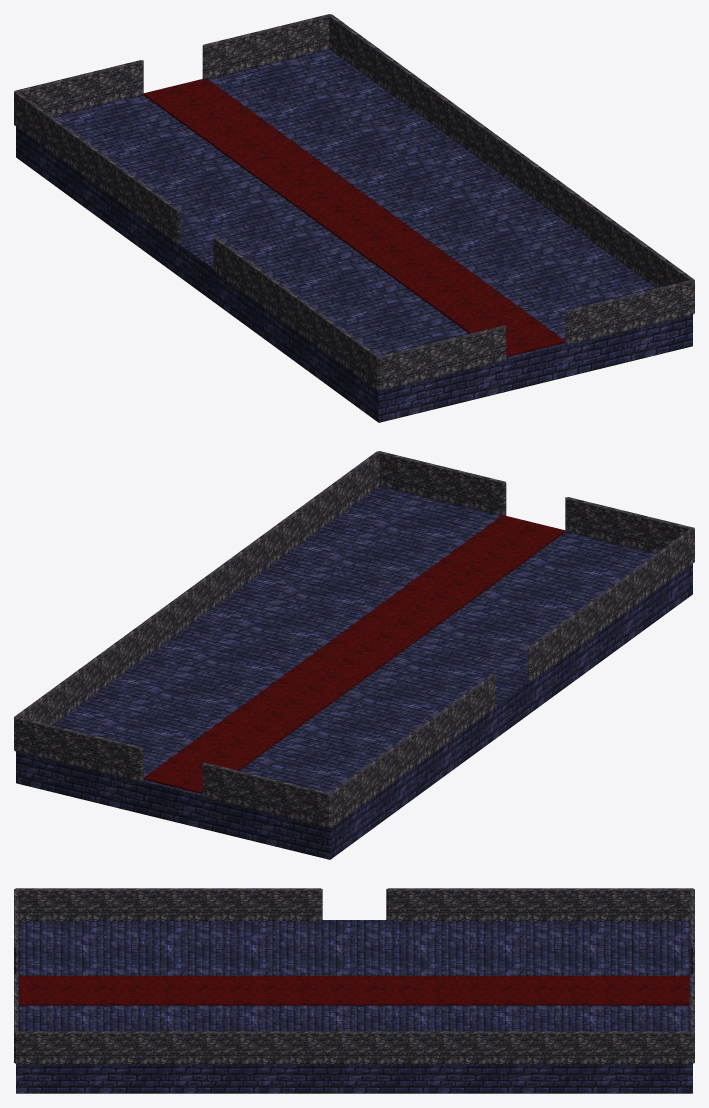
Rendered from room-3door2.glb.
The picture shows the model from 3 angles, top to bottom: view 1: azimuth 30°, elevation 25°; view 2: azimuth 150°, elevation 25°; view 3: azimuth 270°, elevation 25°; orthographic projection. The views are drawn at different scales.
Visible parts, largest first — view 1: floor (×4), wall (×51), porch_floorCenter (×2); view 2: floor (×13), wall (×51), porch_floorCenter (×2); view 3: floor (×34), wall (×38), porch_floorCenter (×2).
Part boxes in pixels (x1,y1,x2,y2): floor (×4): (34,68,692,422); wall (×51): (14,14,694,390); porch_floorCenter (×2): (143,78,565,356); floor (×13): (16,493,692,859); wall (×51): (15,451,694,827); porch_floorCenter (×2): (143,515,565,793); floor (×34): (16,920,692,1093); wall (×38): (14,888,694,1063); porch_floorCenter (×2): (19,975,689,1005).
Bounding box in the file's own units: 10.13 × 2 × 20.13.
136 materials, 136 textured.
